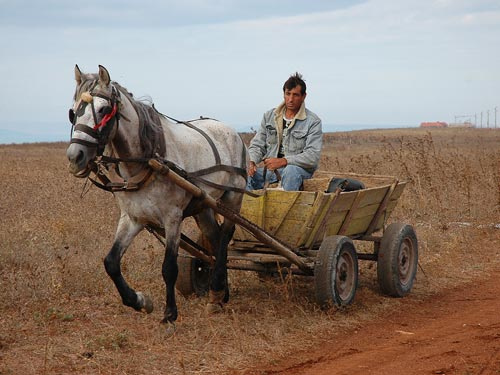horse: (65, 63, 247, 325)
